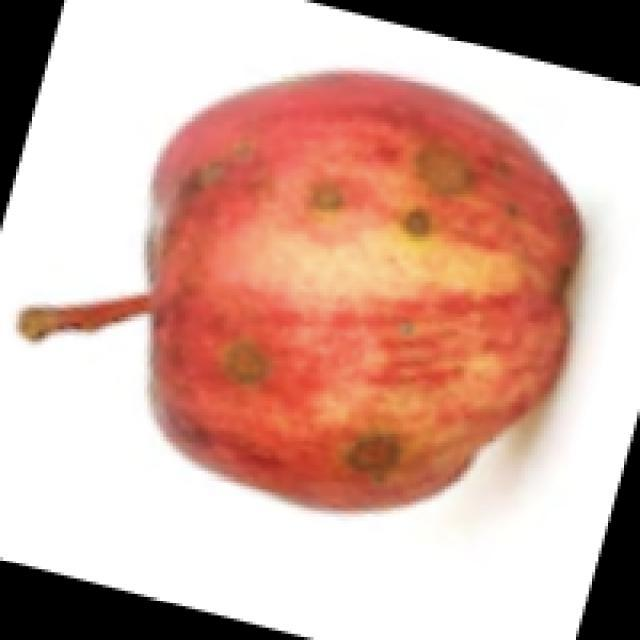Rotten: (125, 62, 577, 480)
